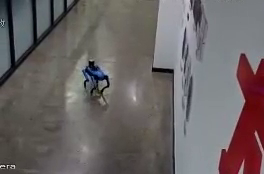robot dog: (82, 57, 105, 99)
